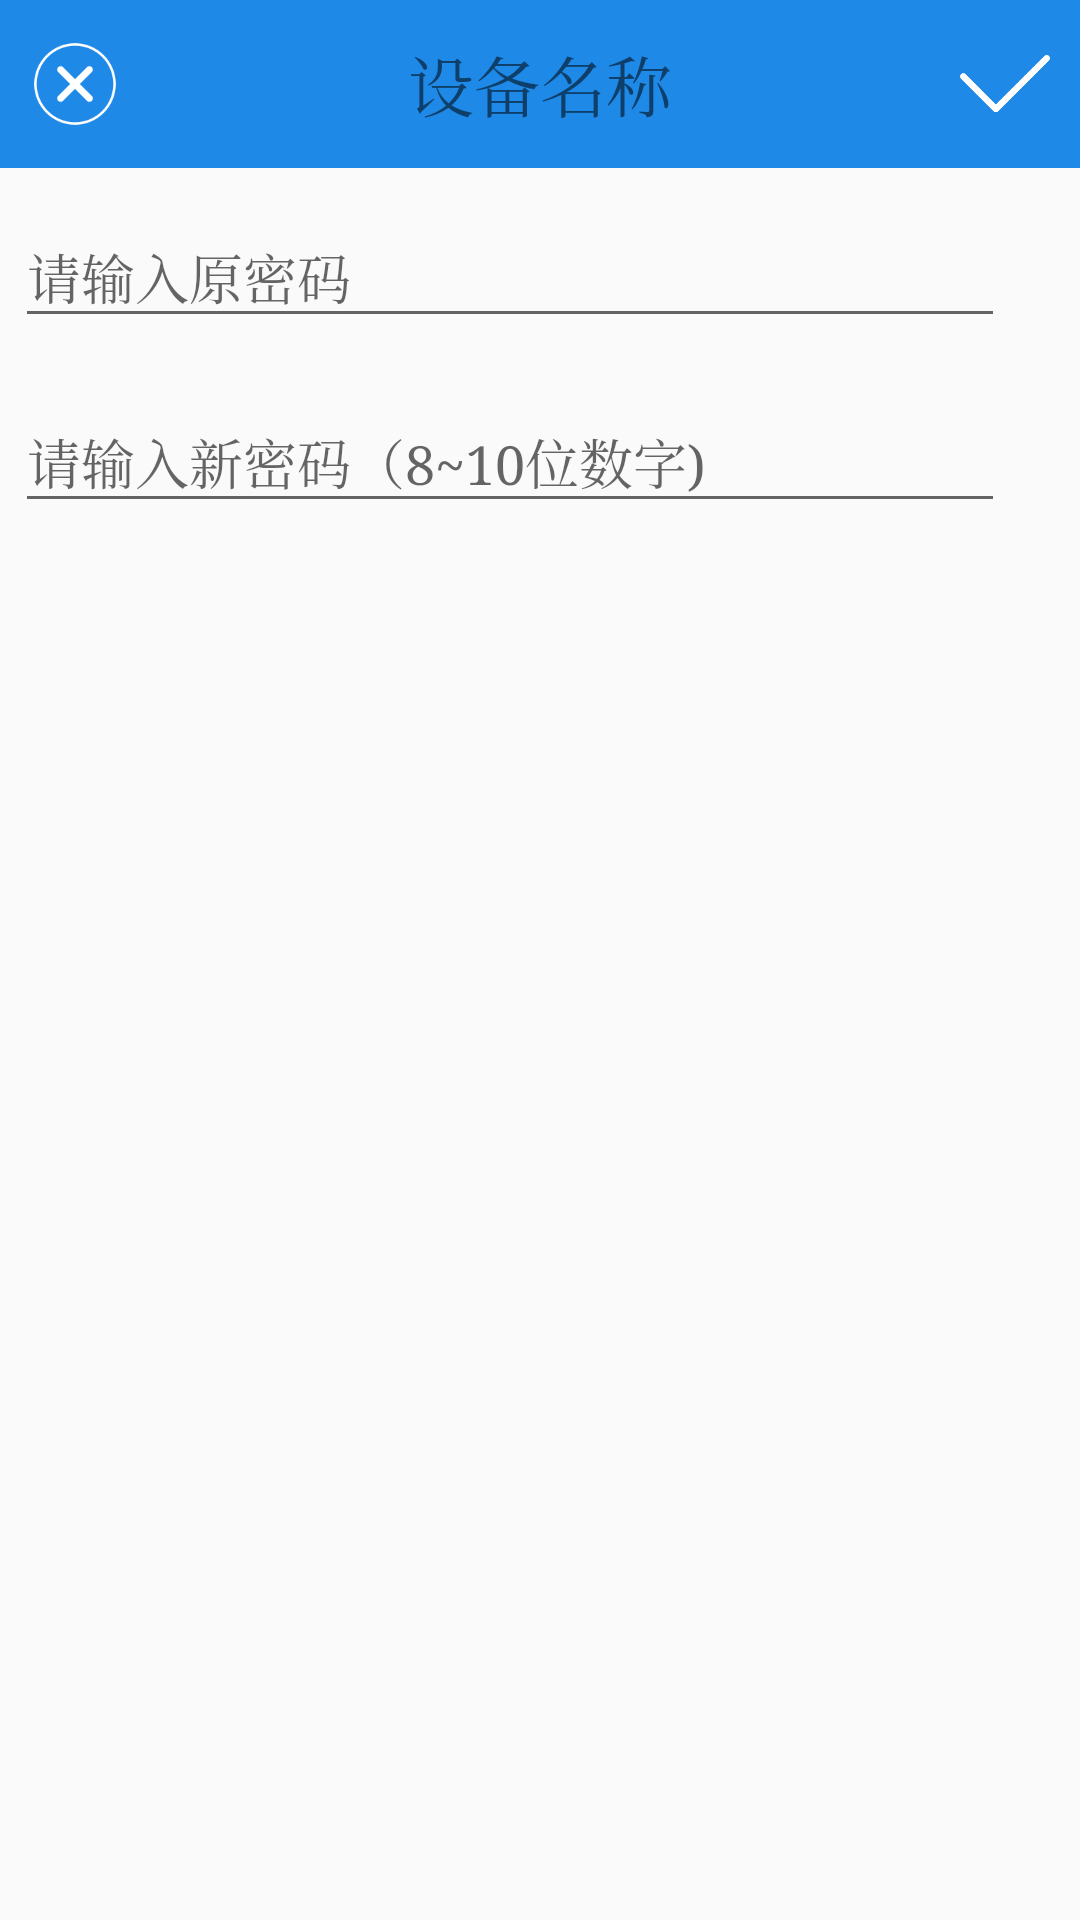

Screen size 1080px×1920px. Icon name, then its box in pixels as (x1, y1, x2, y2):
close: (34, 43, 116, 125)
done: (960, 55, 1050, 112)
